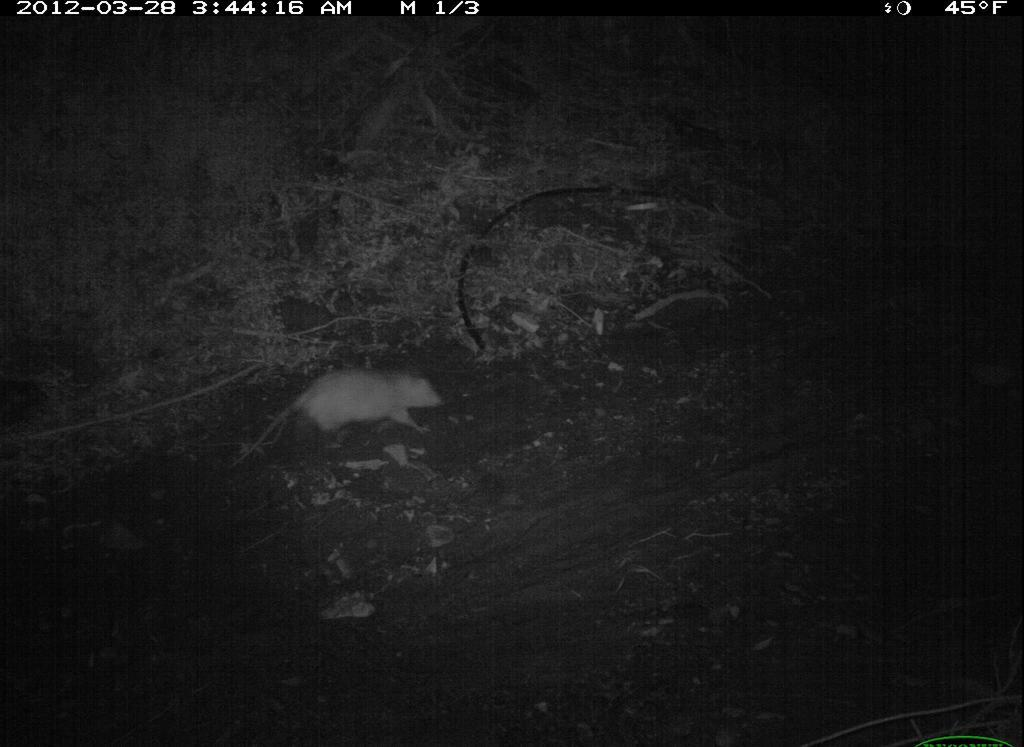opossum: (223, 365, 449, 479)
